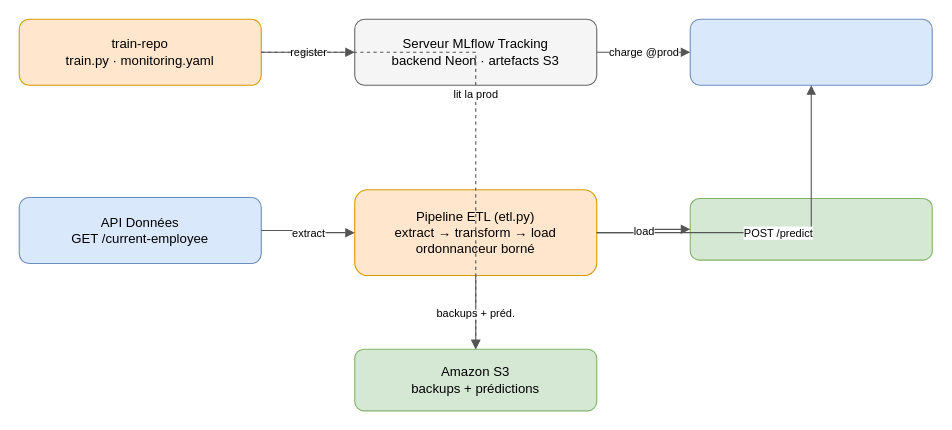
This 952x430 diagram has some shape labels left out. Each missing label, with the centre of its shape:
"API Modèle (FastAPI) POST /predict @production" goes at point (810, 51).
"PostgreSQL Neon table prédictions" goes at point (810, 228).
